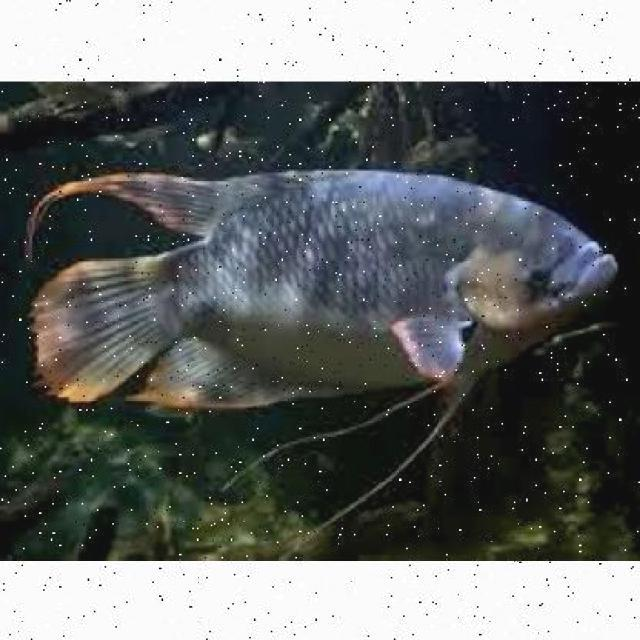gurame: (35, 170, 618, 412)
